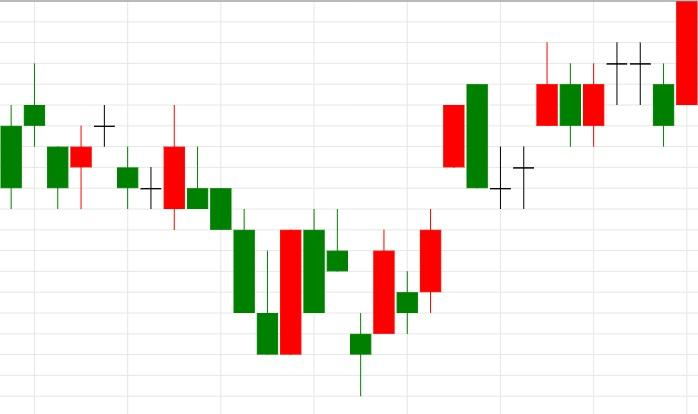bearish_engulfing_fall: (349, 84, 489, 397)
inverse_hammer_rise: (94, 104, 209, 230)
